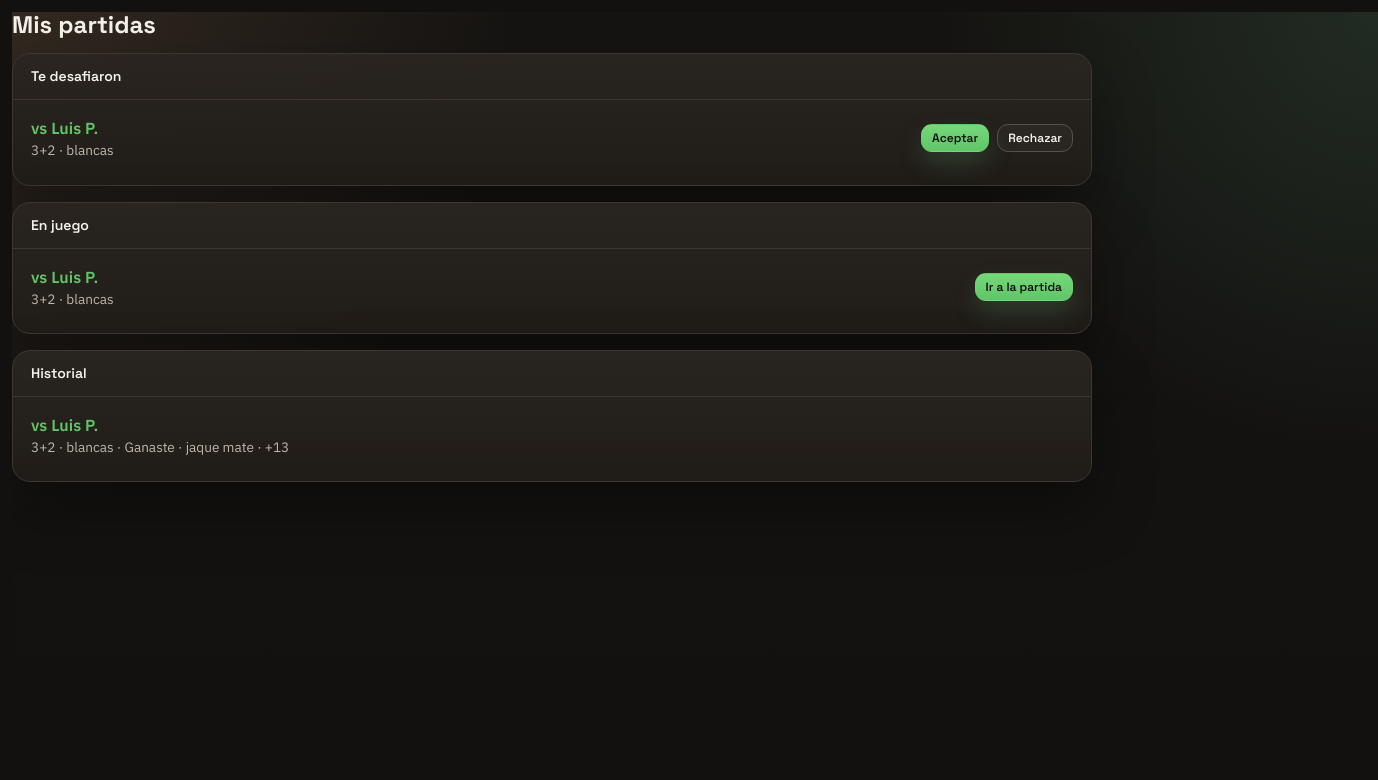
Scenario: partidas › mis partidas: acepto un desafío y veo historial
Click the button "Aceptar": (955, 138) x1=921 y1=124 x2=989 y2=152
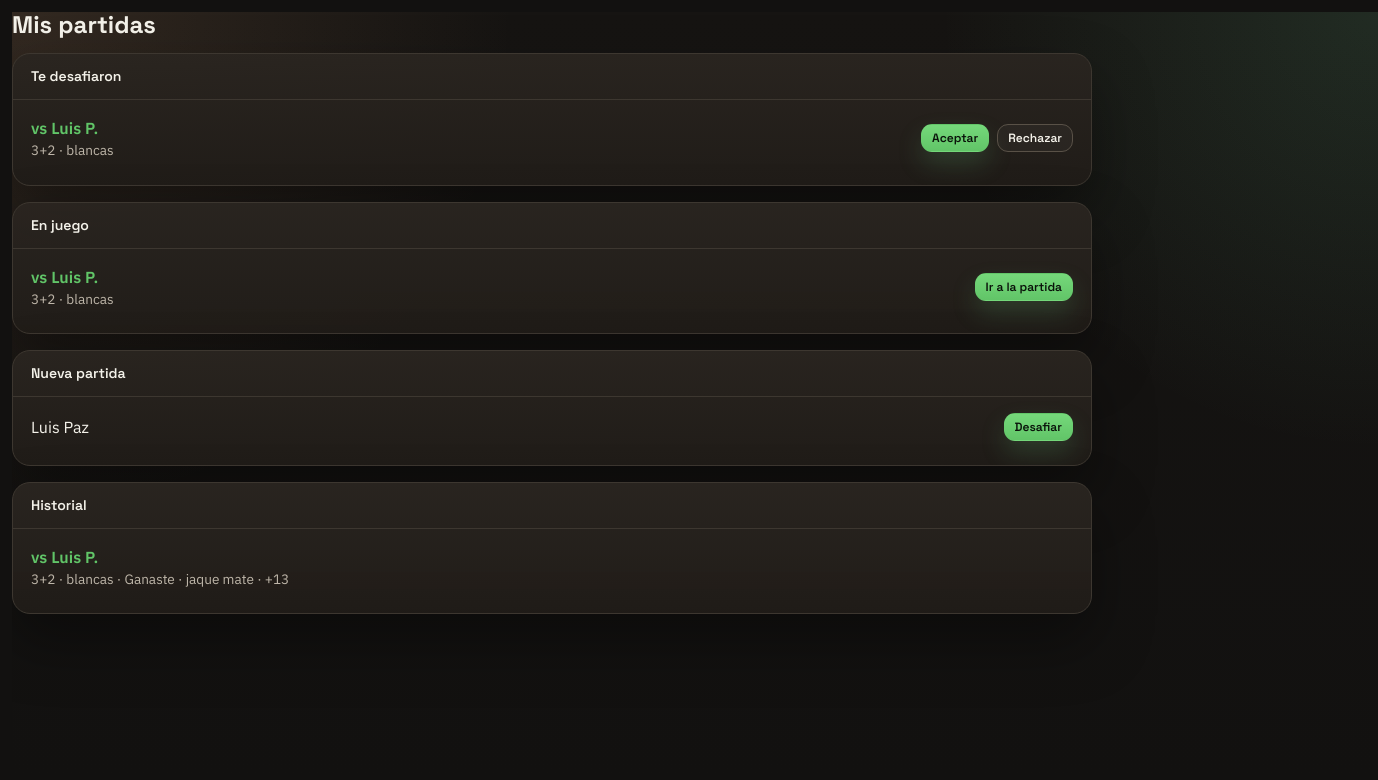
Expected: the text "Historial" is shown, x1=13 y1=483 x2=1091 y2=529
Click the button "Desafiar": (1038, 427) x1=1004 y1=413 x2=1073 y2=441
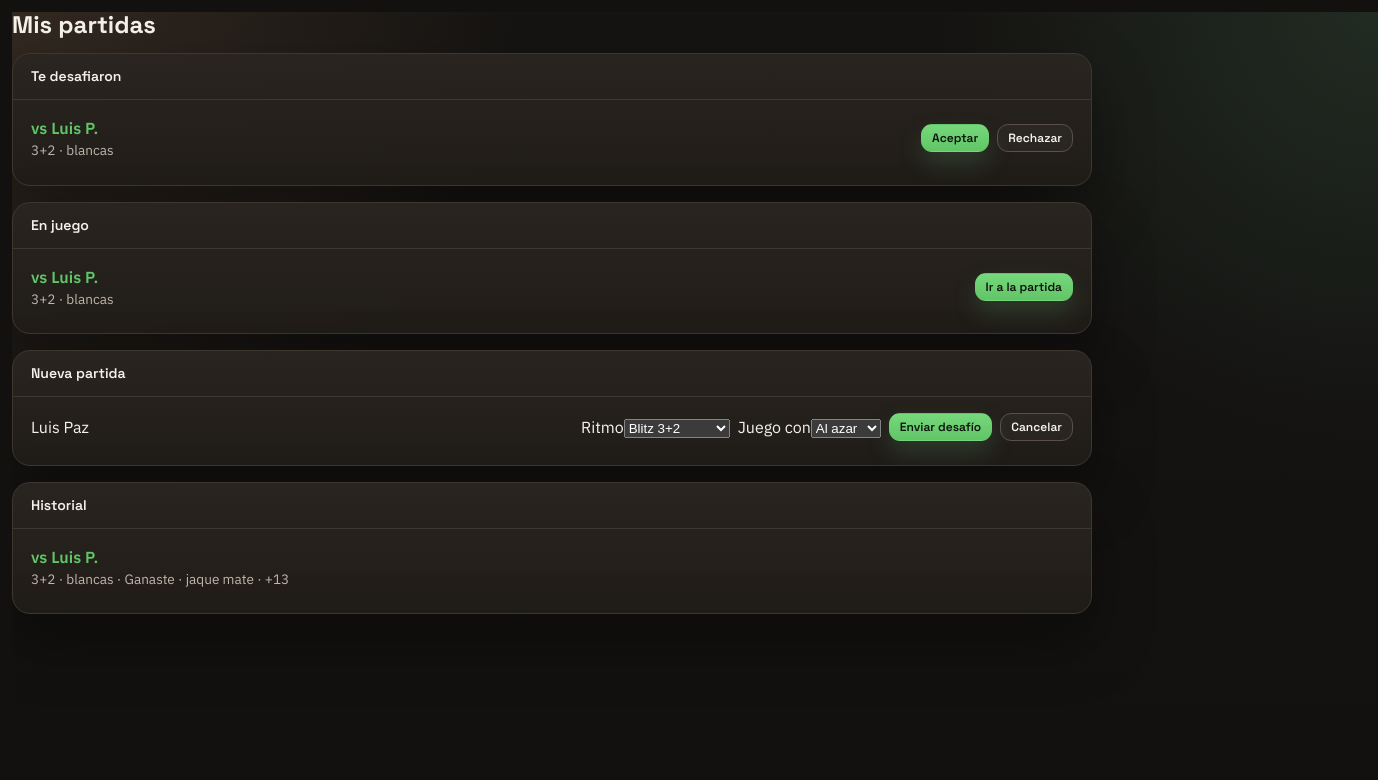
Expected: the element named "Desafiar a Luis Paz" is shown, x1=581 y1=413 x2=1073 y2=441
